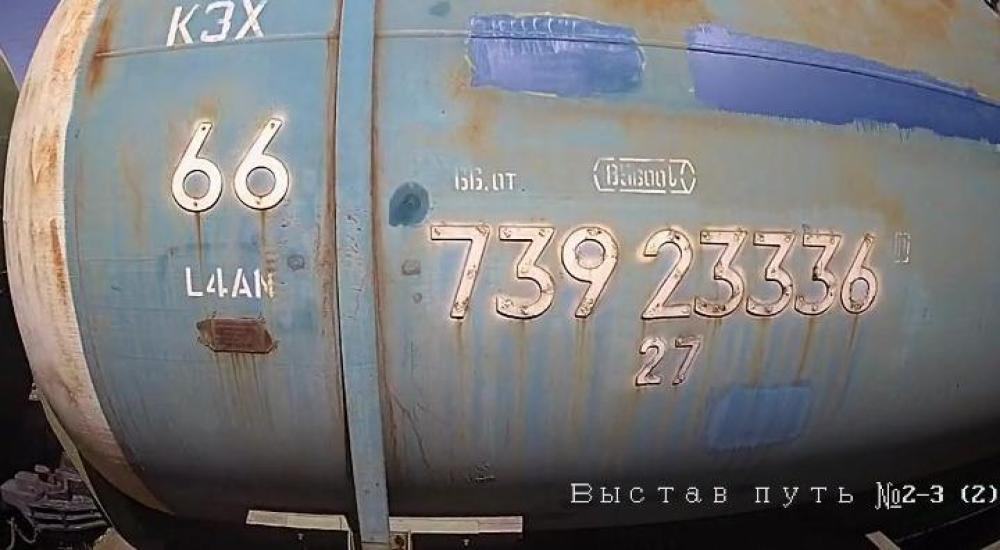Wagon-number: (423, 218, 886, 323)
